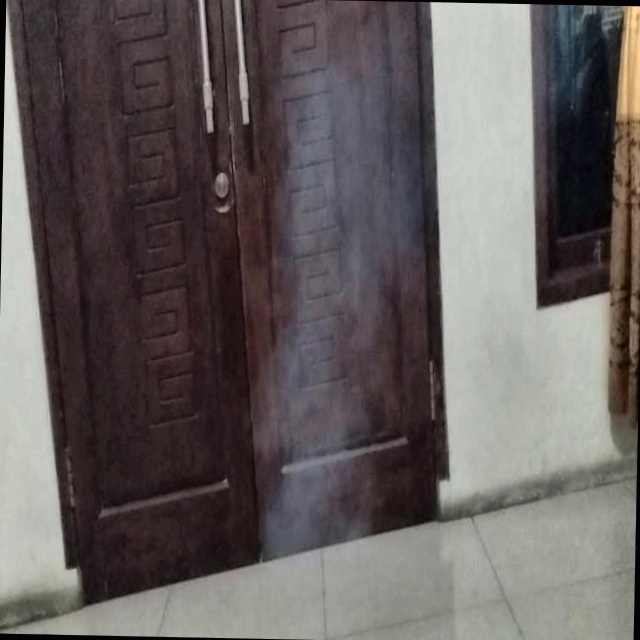smoke: (273, 70, 485, 553)
